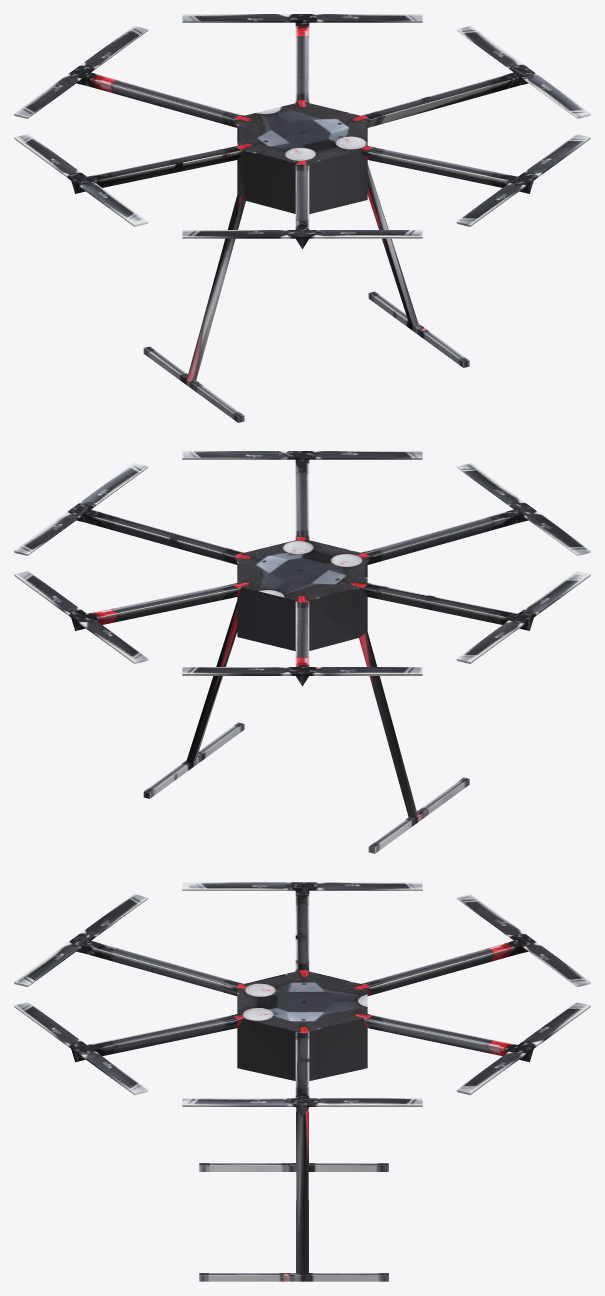
Rendered from dji600.obj.
3 views of the same model, one above another, from view 1: azimuth 30°, elevation 25°; view 2: azimuth 150°, elevation 25°; view 3: azimuth 270°, elevation 25° (orthographic).
Parts seen in each view (by area): view 1: dji600_Cylinder; view 2: dji600_Cylinder; view 3: dji600_Cylinder.
Boxes of the visible parts, x1,y1,x2,y2 form: dji600_Cylinder: (14, 14, 590, 422); dji600_Cylinder: (14, 451, 590, 853); dji600_Cylinder: (14, 882, 590, 1281).
Bounding box in the file's own units: 0.9397 × 0.4551 × 1.03.
Materials: 1 (1 with a texture image).
